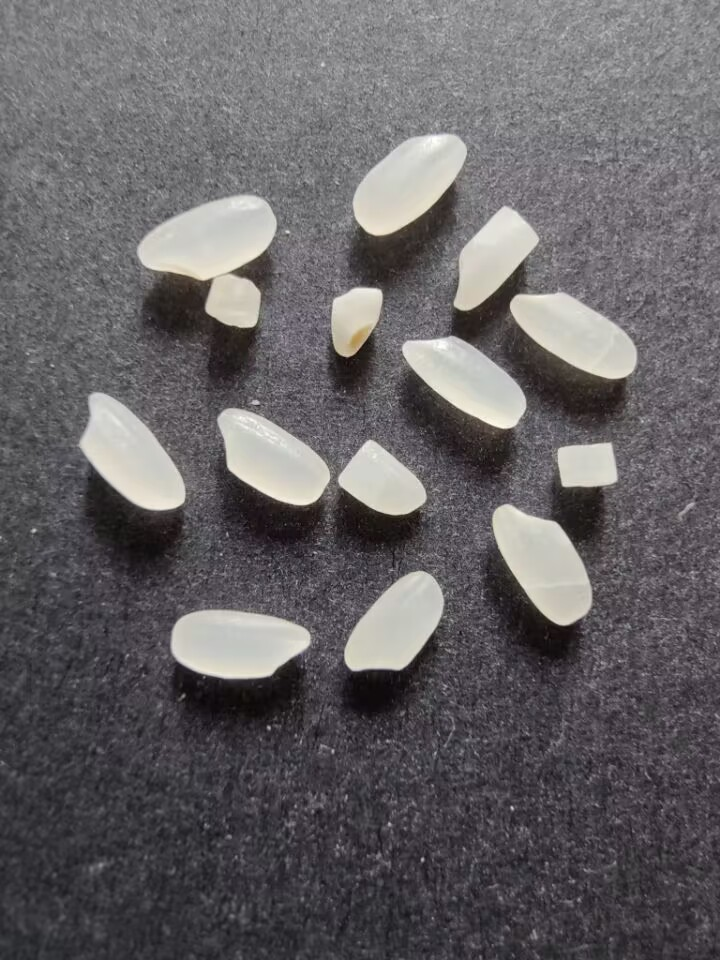broken: (449, 203, 543, 315), (333, 438, 432, 519), (328, 283, 389, 361), (555, 438, 623, 495), (202, 273, 262, 332)
rice: (76, 388, 190, 515), (131, 191, 283, 283), (489, 503, 595, 630), (509, 287, 641, 386), (398, 333, 529, 432), (352, 130, 471, 237), (211, 405, 332, 510), (340, 569, 448, 678), (165, 606, 314, 681)
